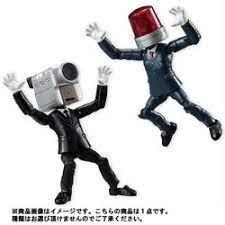no more kid: (29, 60, 83, 111)
